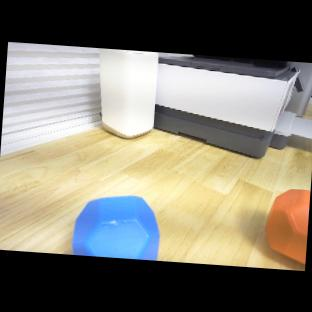V5_BLUE: (70, 191, 163, 261)
V5_RED: (263, 185, 310, 265)
